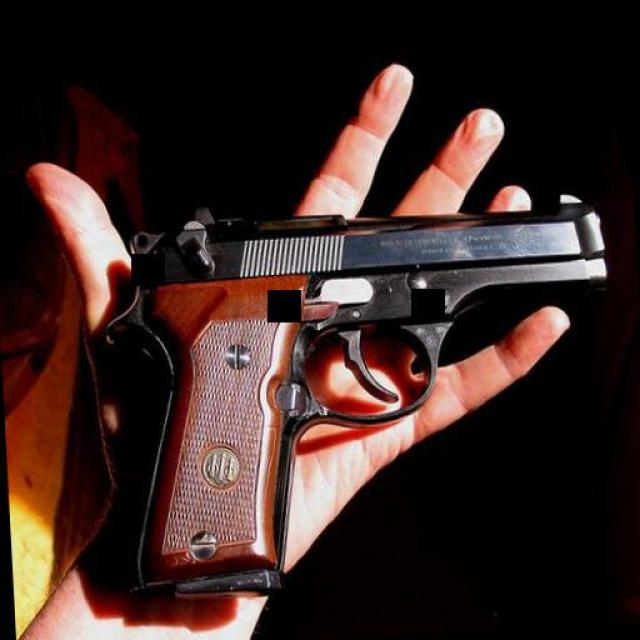gun: (103, 185, 622, 606)
